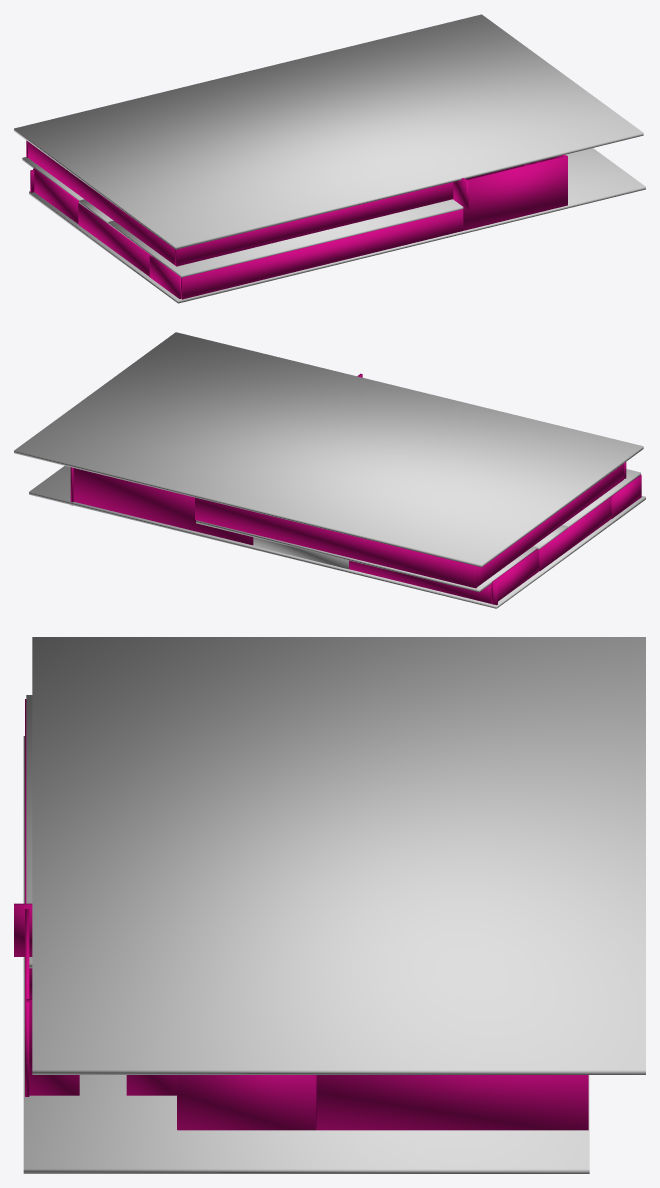
File: secoundHouse (2).fbx
The picture shows the model from 3 angles, top to bottom: view 1: azimuth 30°, elevation 25°; view 2: azimuth 150°, elevation 25°; view 3: azimuth 270°, elevation 25°; orthographic projection. The views are drawn at different scales.
Visible parts, largest first — view 1: Floor_004, Cube_001, Floor, Cube_002, Cube_030, Floor_002, Cube_033, Cube_011, LeftBathroomWall, Cube_014; view 2: Floor_004, Cube_031, LivingRoomTopWall, Floor, Cube_033, Cube_011, Cube_010, Floor_001, LeftBathroomWall, Floor_005, Cube_014, Floor_002; view 3: Floor_004, Floor, Cube_018, Cube_019, Floor_002, Cube_025, Cube_024, Cube_002, Cube_045.
Part boxes in pixels (x1,y1,x2,y2): Floor_004: (14,14,643,249); Cube_001: (181,209,463,299); Floor: (29,148,645,303); Cube_002: (463,155,567,230); Cube_030: (175,182,453,266); Floor_002: (108,199,463,277); Cube_033: (28,142,175,265); Cube_011: (78,203,152,276); LeftBathroomWall: (33,168,78,223); Cube_014: (149,256,180,298); Floor_004: (14,332,643,567); Cube_031: (195,497,477,588); LivingRoomTopWall: (73,468,253,545); Floor: (29,466,645,608); Cube_033: (477,463,623,586); Cube_011: (538,495,612,571); Cube_010: (349,560,497,605); Floor_001: (196,520,537,592); LeftBathroomWall: (491,549,538,604); Floor_005: (253,537,348,569); Cube_014: (611,475,641,518); Floor_002: (562,469,640,527); Floor_004: (32,637,645,1074); Floor: (23,736,589,1173); Cube_018: (316,1075,588,1130); Cube_019: (177,1075,315,1130); Floor_002: (26,695,32,968); Cube_025: (26,999,79,1095); Cube_024: (126,1075,176,1095); Cube_002: (25,909,29,1096); Cube_045: (14,903,32,956).
Bounding box in the file's own units: 96.51 × 11.2 × 59.57.
